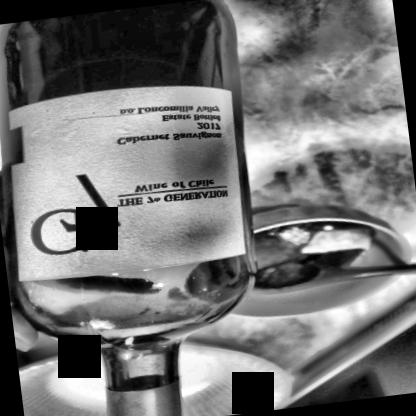G7: (0, 72, 253, 283)
